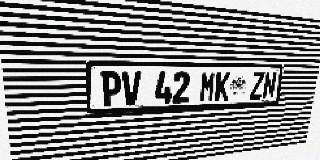2: (172, 71, 190, 103)
4: (155, 71, 173, 104)
K: (214, 72, 231, 101)
M: (199, 71, 216, 102)
N: (262, 72, 277, 99)
P: (101, 71, 121, 107)
V: (122, 71, 141, 106)
Z: (249, 72, 265, 100)
